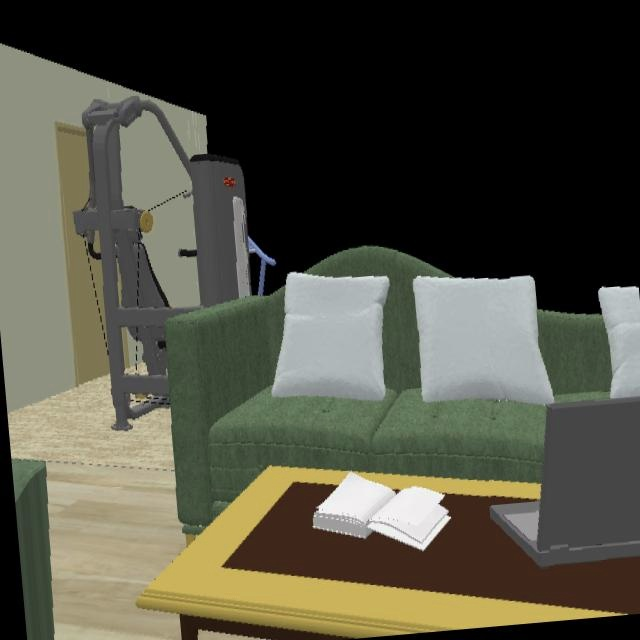book: (309, 473, 452, 553)
laptop: (491, 397, 640, 568)
pillow: (412, 277, 555, 407), (269, 272, 389, 419), (598, 287, 640, 403)
sofa: (165, 247, 545, 533), (11, 461, 56, 640), (539, 310, 611, 397)
table: (133, 467, 640, 640)
